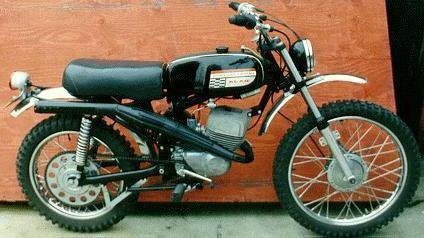motorcycle: (1, 1, 424, 238)
